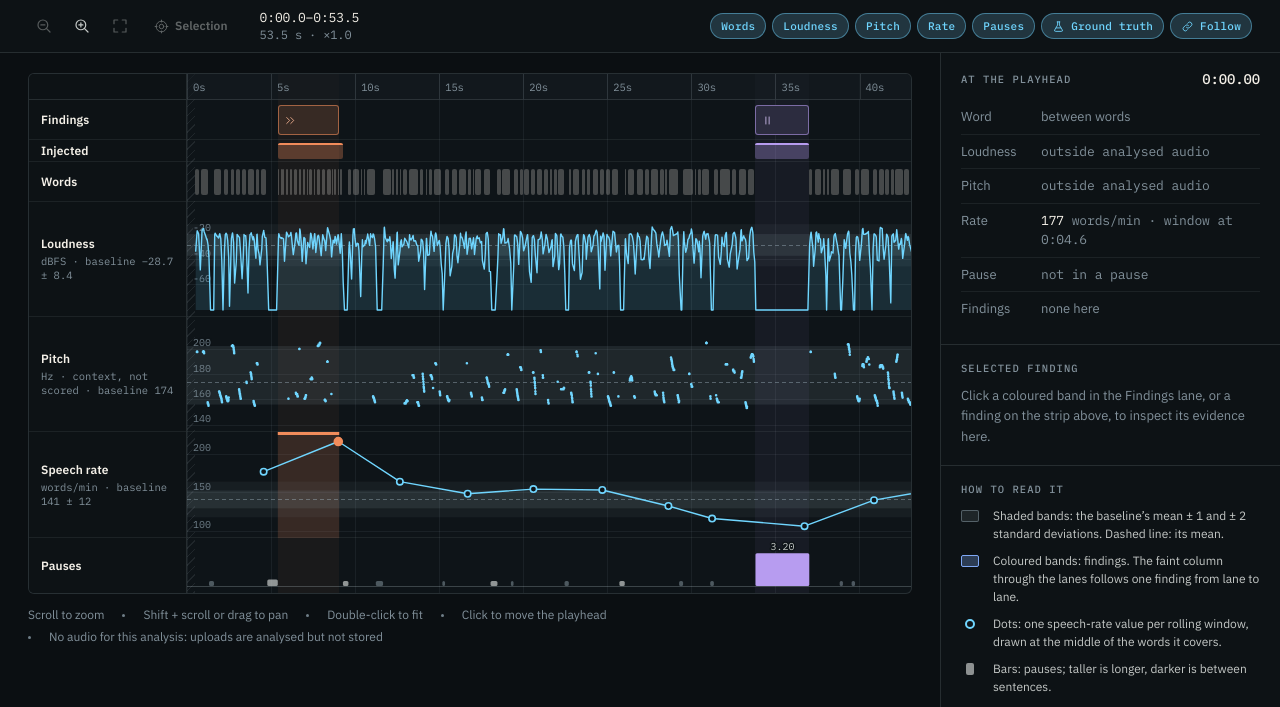
Test: TimelinePage › hides and shows lanes from the toolbar and remembers the choice
Click the button "Pitch": (883, 26) [855, 13, 911, 39]
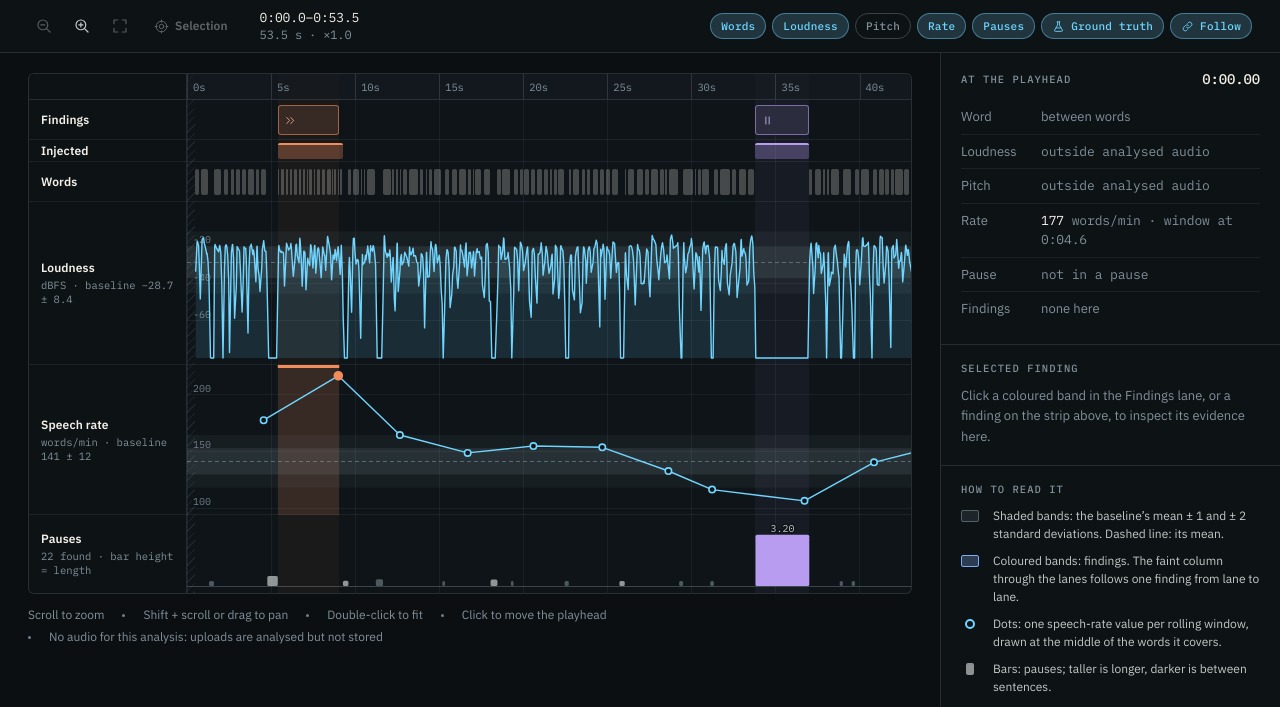
Result: the element with class "lane--pitch" is gone
Click the button "Pitch": (883, 26) [855, 13, 911, 39]
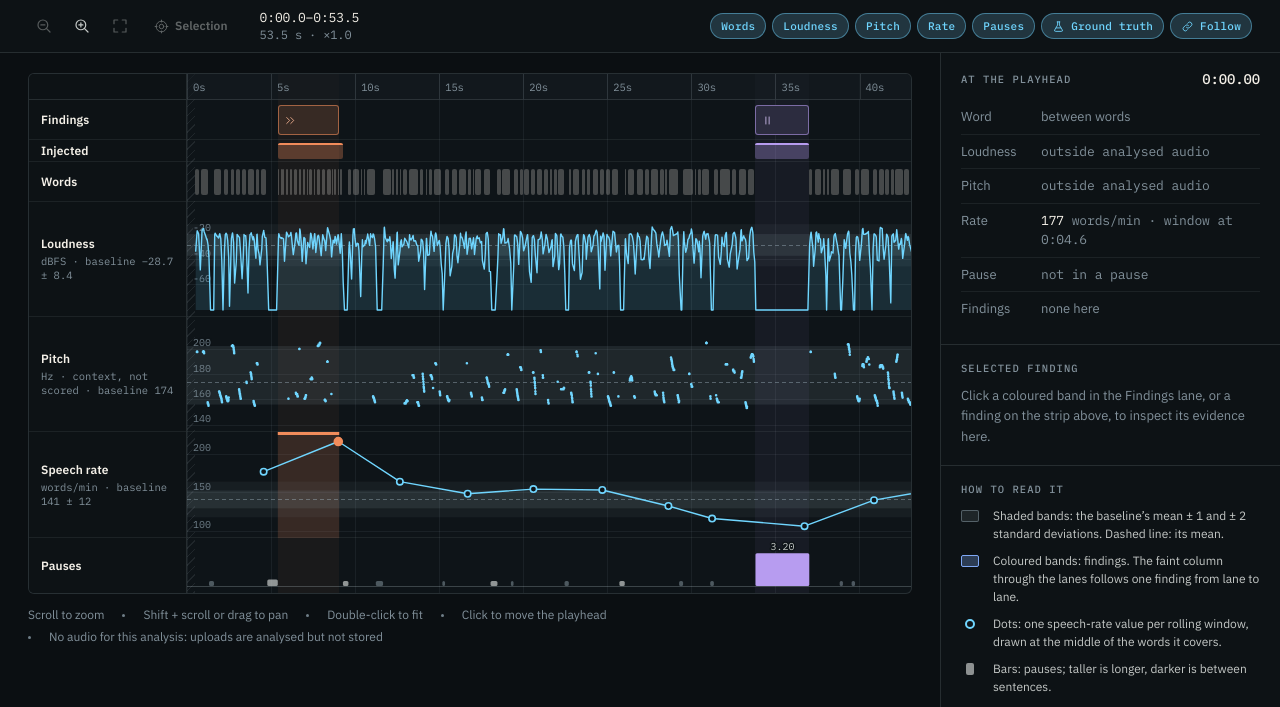
Result: the element with class "lane--pitch" is shown at [187, 317, 911, 432]
